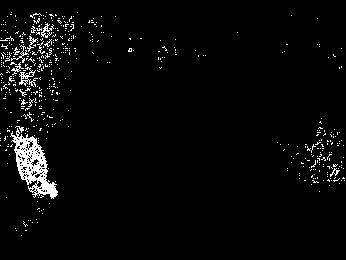person: (10, 126, 58, 206)
